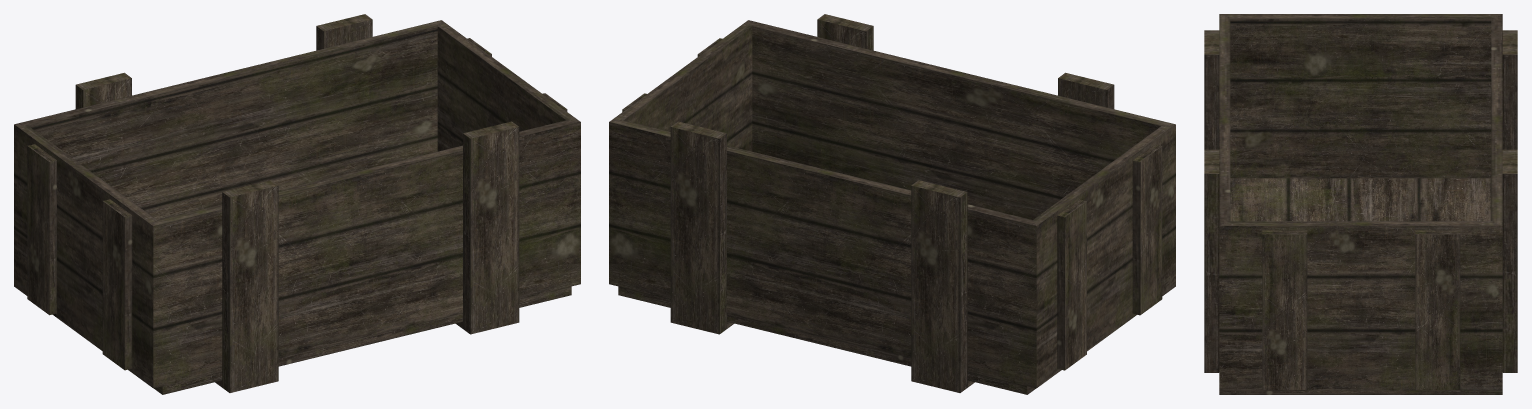
The model's file is Crate01.fbx.
3 renders of one model, left to right at view 1: azimuth 30°, elevation 25°; view 2: azimuth 150°, elevation 25°; view 3: azimuth 270°, elevation 25°, orthographic.
Parts seen in each view (by area): view 1: Crate01; view 2: Crate01; view 3: Crate01.
Boxes of the visible parts, bbox=[...] form: Crate01: bbox=[14, 14, 580, 394]; Crate01: bbox=[609, 14, 1175, 394]; Crate01: bbox=[1204, 14, 1517, 394].
Bounding box in the file's own units: 129 × 54.44 × 77.73.
